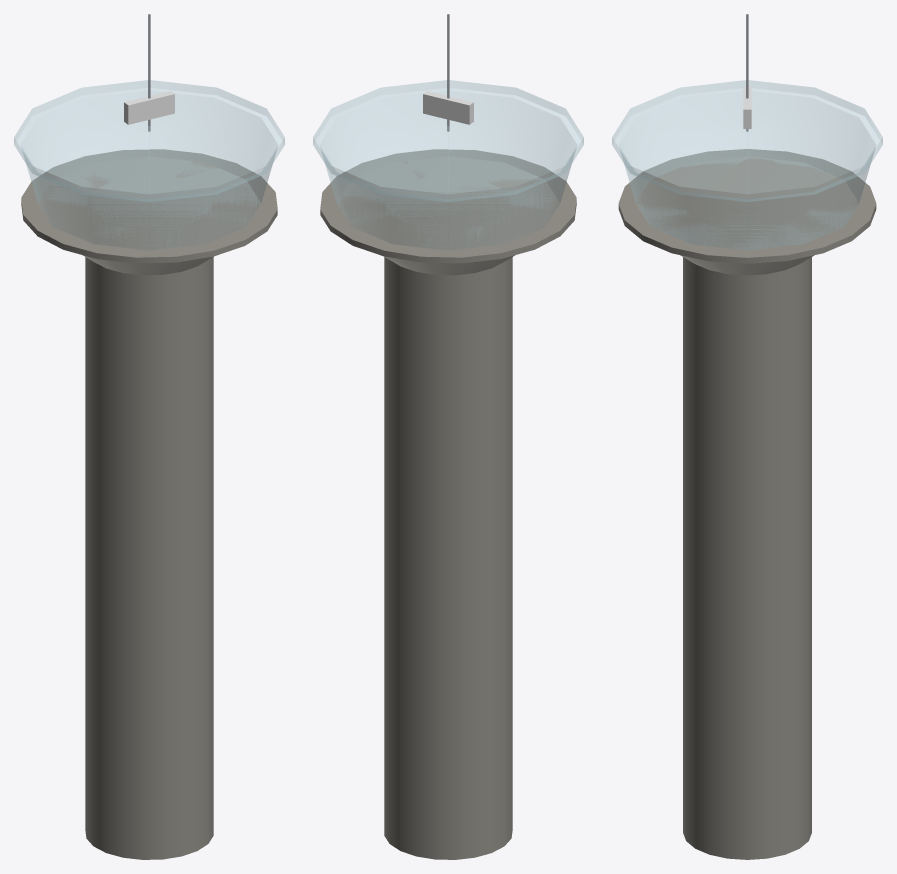
The model's file is airport.airside.control_tower.glb.
3 views of the same model, side by side, from view 1: azimuth 30°, elevation 25°; view 2: azimuth 150°, elevation 25°; view 3: azimuth 270°, elevation 25° (orthographic).
Parts seen in each view (by area): view 1: main__concrete, main__glass, main__plastic_white; view 2: main__concrete, main__glass, main__plastic_white; view 3: main__concrete, main__glass.
Boxes of the visible parts, x1=… form: main__concrete: x1=21, y1=149, x2=277, y2=859; main__glass: x1=14, y1=80, x2=284, y2=250; main__plastic_white: x1=124, y1=91, x2=174, y2=124; main__concrete: x1=320, y1=149, x2=576, y2=859; main__glass: x1=313, y1=80, x2=583, y2=250; main__plastic_white: x1=423, y1=91, x2=473, y2=124; main__concrete: x1=618, y1=149, x2=876, y2=859; main__glass: x1=612, y1=80, x2=882, y2=250.
Size of the model in its own units: 12.6 by 42 by 12.6.
